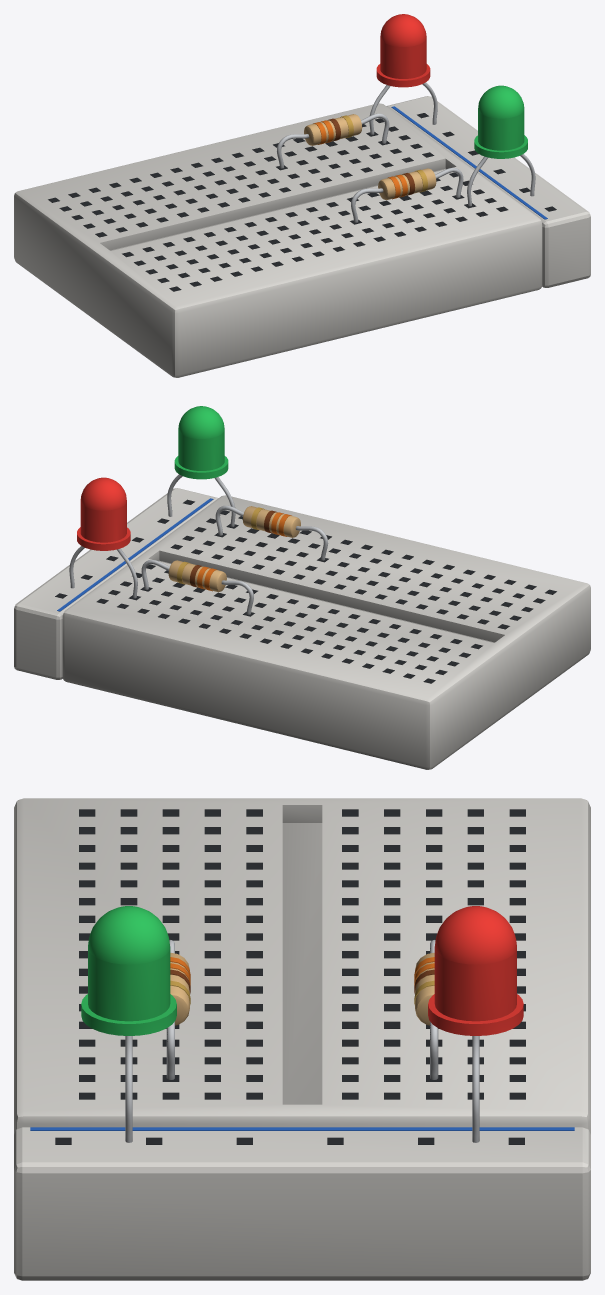
File: breadboard.glb
3 renders of one model, top to bottom at view 1: azimuth 30°, elevation 25°; view 2: azimuth 150°, elevation 25°; view 3: azimuth 270°, elevation 25°, orthographic. The views are drawn at different scales.
Parts seen in each view (by area): view 1: Board, LED_Green, LED_Red, Resistor_A, Resistor_B; view 2: Board, LED_Red, LED_Green, Resistor_B, Resistor_A; view 3: Board, LED_Green, LED_Red, Resistor_A, Resistor_B.
Part boxes in pixels (x1,y1,x2,y2): Board: (14, 96, 590, 377); LED_Green: (467, 85, 535, 206); LED_Red: (369, 14, 437, 134); Resistor_A: (276, 113, 389, 168); Resistor_B: (351, 167, 463, 222); Board: (14, 488, 590, 769); LED_Red: (69, 477, 137, 598); LED_Green: (167, 406, 235, 526); Resistor_B: (215, 505, 328, 560); Resistor_A: (141, 559, 253, 614); Board: (14, 798, 590, 1280); LED_Green: (81, 906, 176, 1142); LED_Red: (428, 906, 523, 1142); Resistor_A: (414, 940, 438, 1079); Resistor_B: (166, 940, 190, 1079).
Size of the model in its own units: 0.052 by 0.0216 by 0.035.
